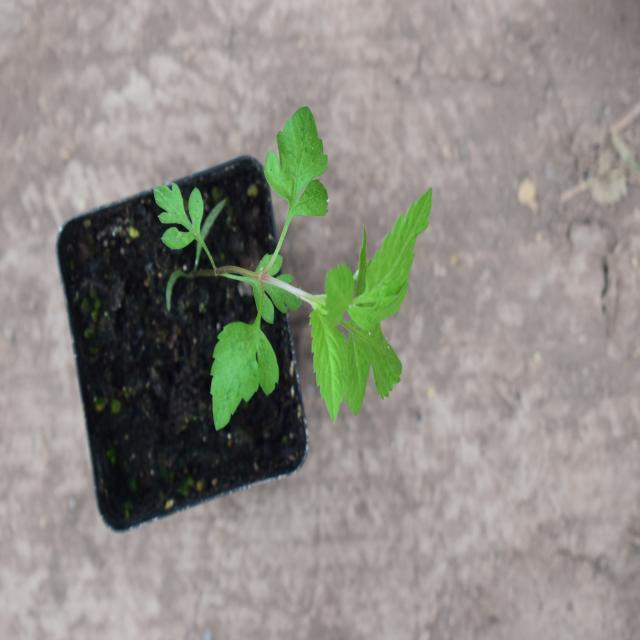Bidens pilosa: (198, 84, 454, 449)
